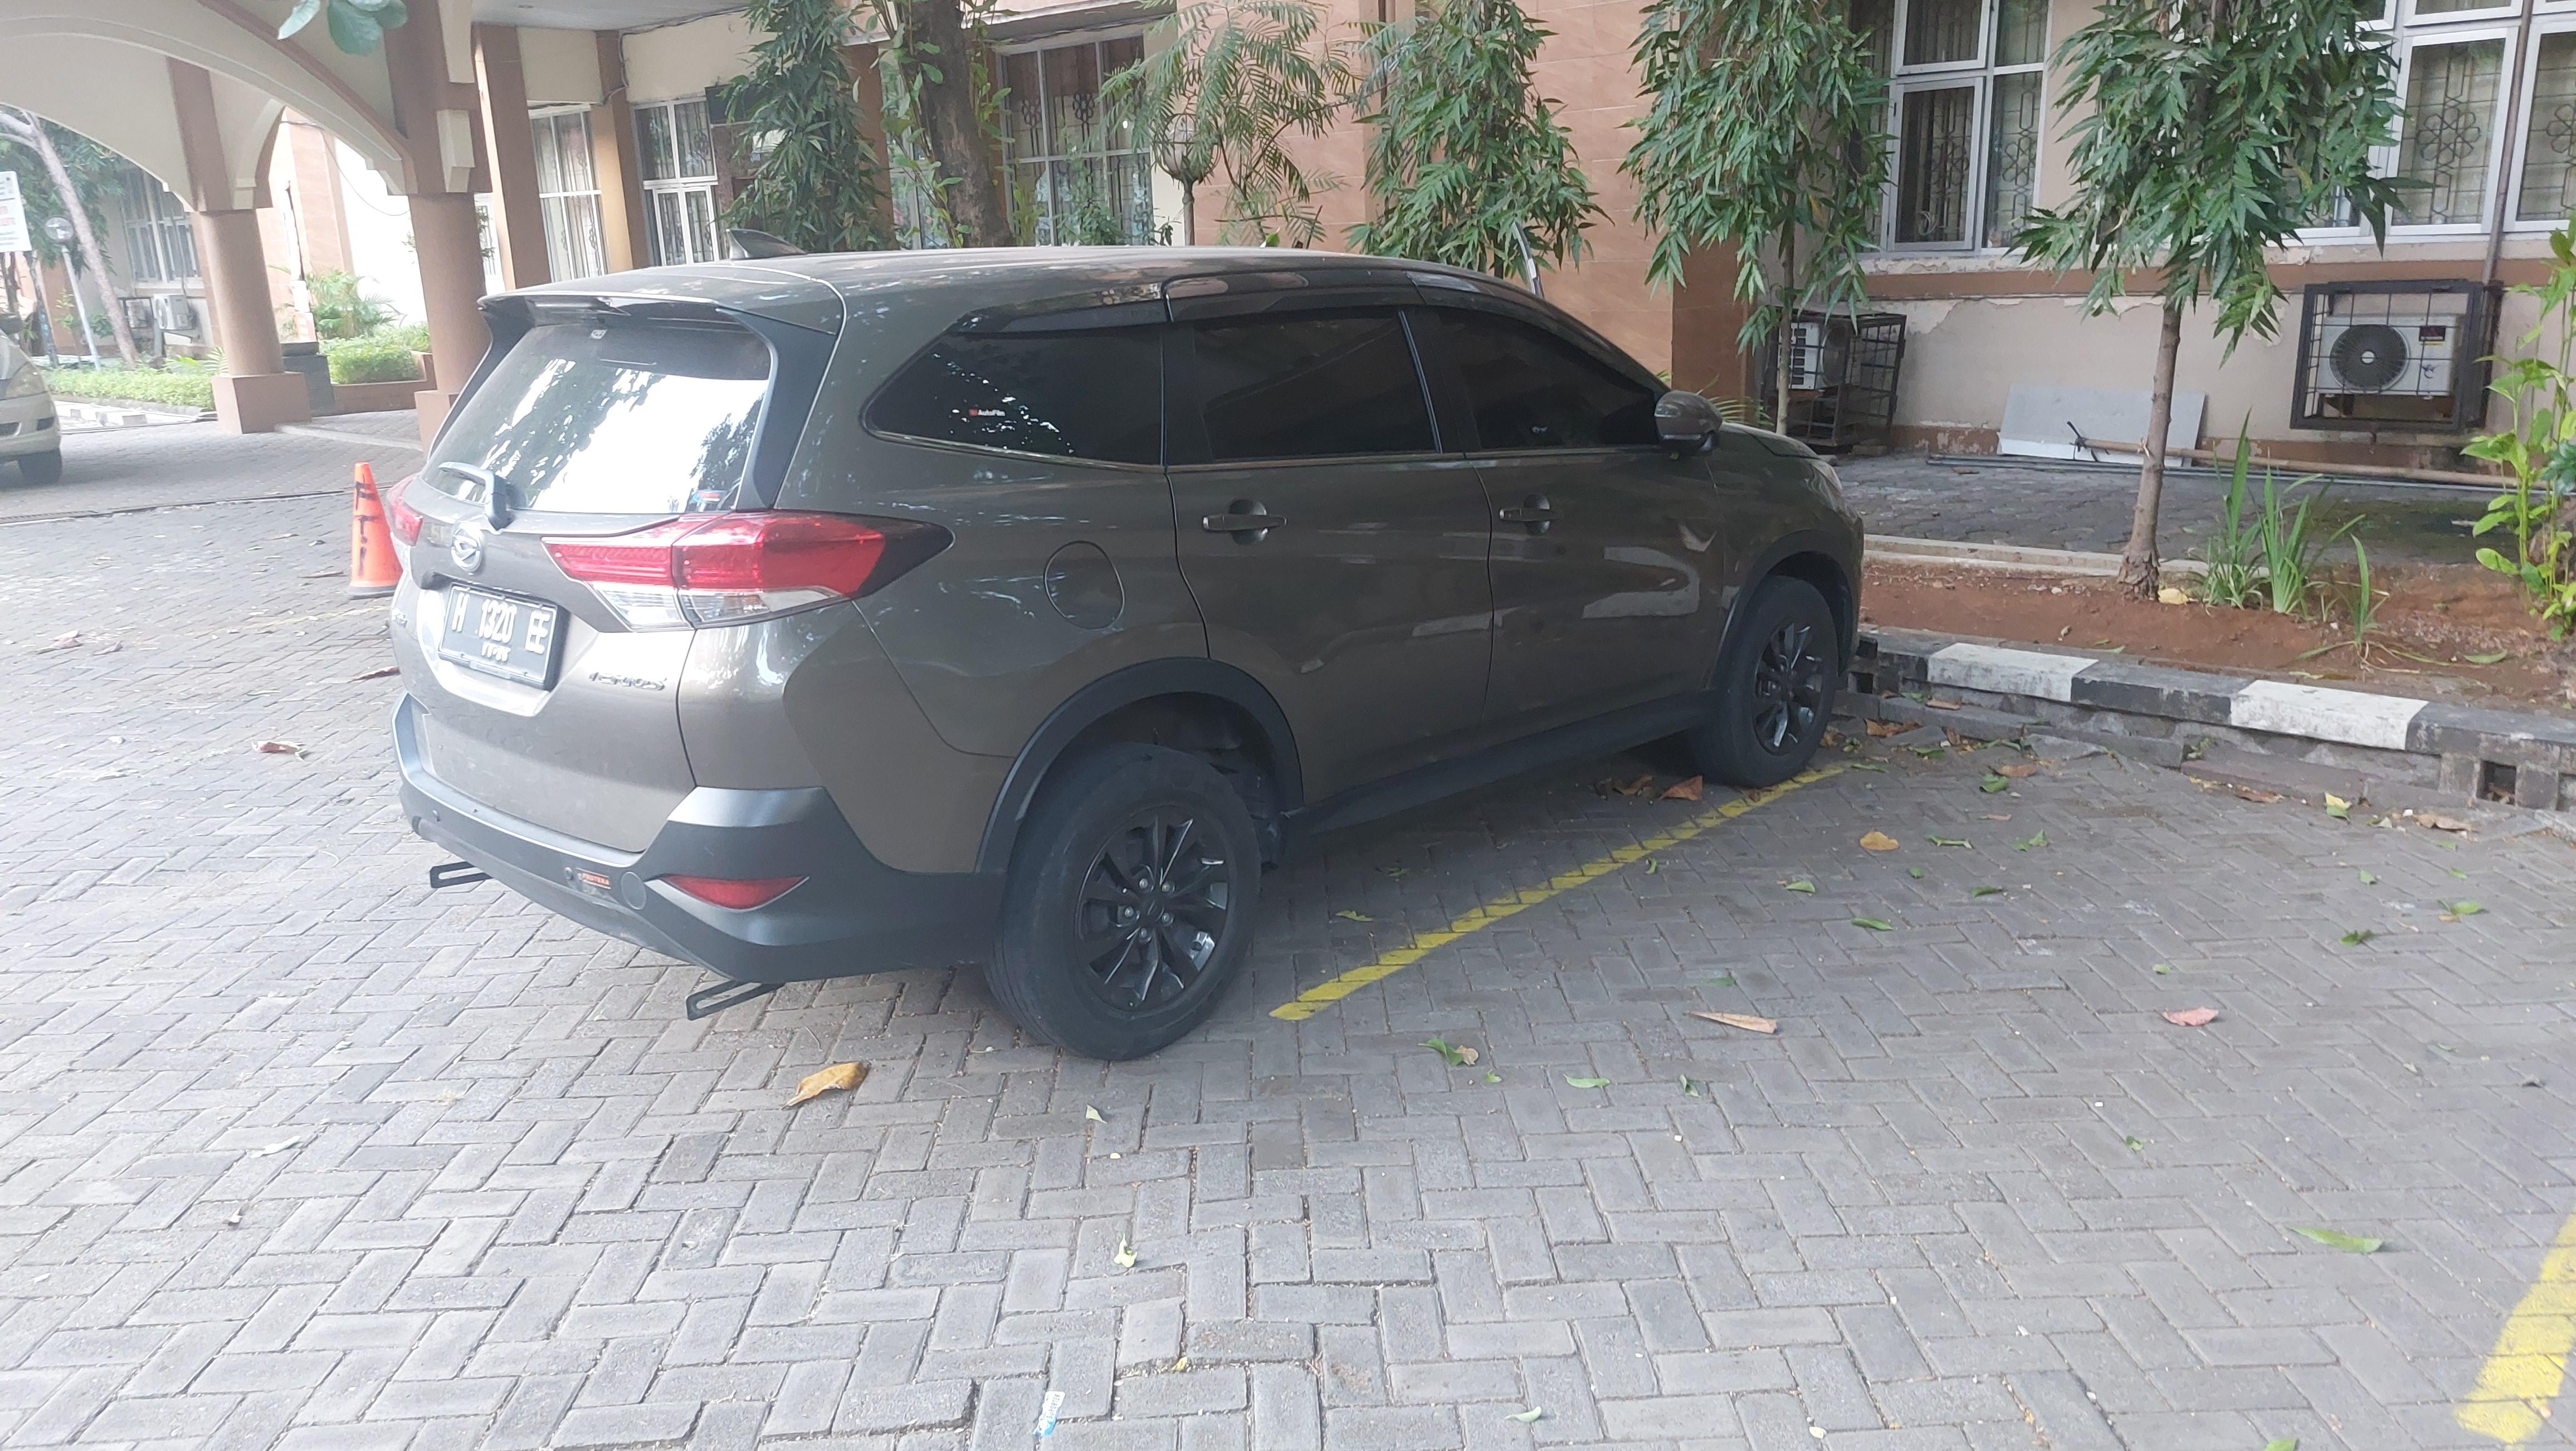empty: (1296, 712, 2576, 1410)
occupied: (375, 241, 1910, 1082)
